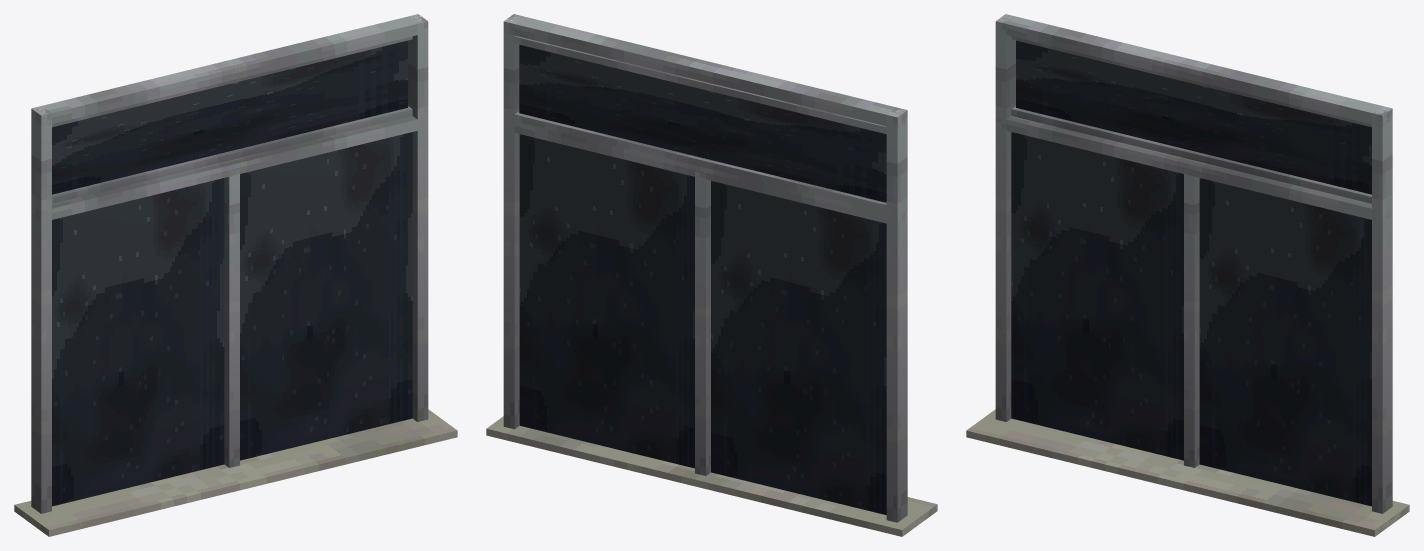
The model's file is window_office.glb.
3 renders of one model, left to right at view 1: azimuth 30°, elevation 25°; view 2: azimuth 150°, elevation 25°; view 3: azimuth 330°, elevation 25°, orthographic.
Parts seen in each view (by area): view 1: window_office, window_office_vent; view 2: window_office, window_office_vent; view 3: window_office, window_office_vent.
Part boxes in pixels (box(x1,y1,x2,y2)): window_office: box(14, 14, 457, 536); window_office_vent: box(52, 36, 412, 203); window_office: box(486, 14, 937, 536); window_office_vent: box(514, 36, 886, 211); window_office: box(966, 14, 1409, 536); window_office_vent: box(1011, 36, 1371, 203).
Size of the model in its own units: 1.9 by 1.8 by 0.28.
